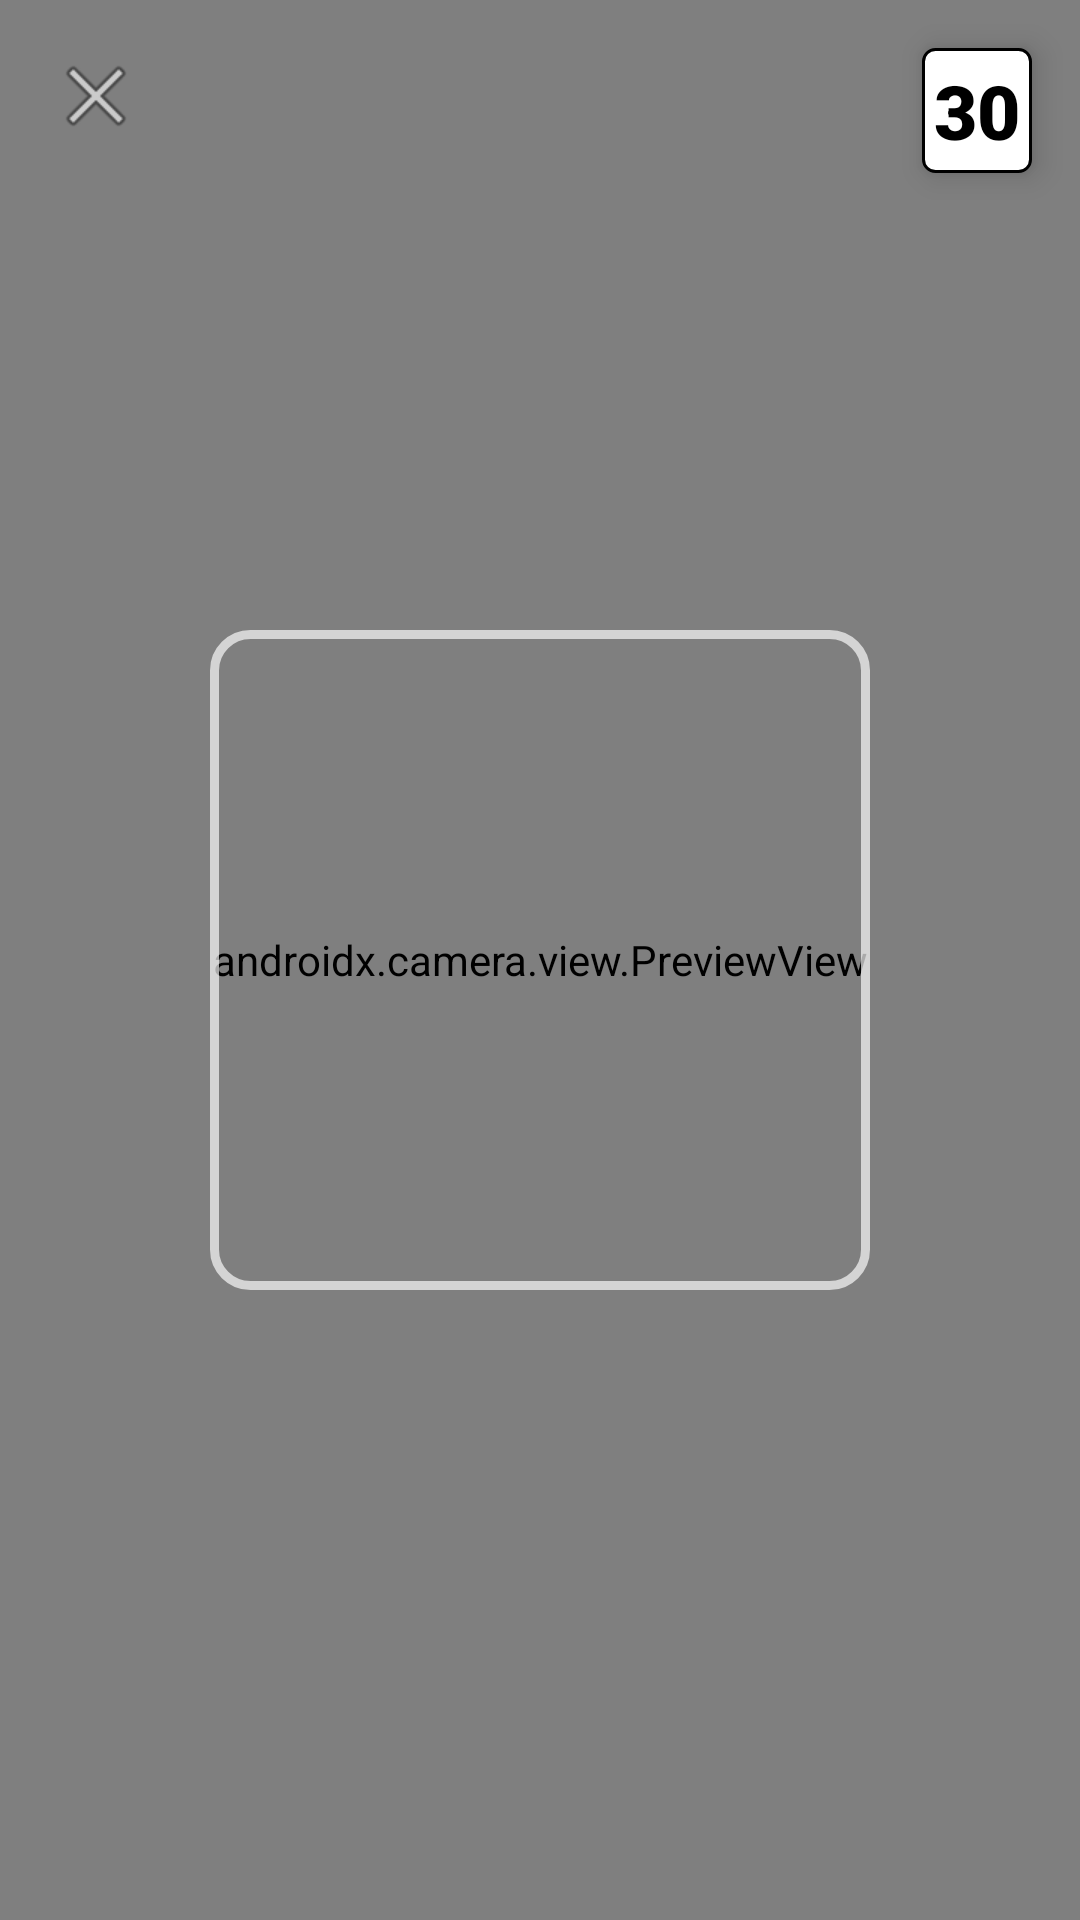

Named icons in this screenshot (1080 x 1920) and their bounding boxes, (x1, y1, x2, y2):
close clear cancel: (66, 66, 126, 126)
